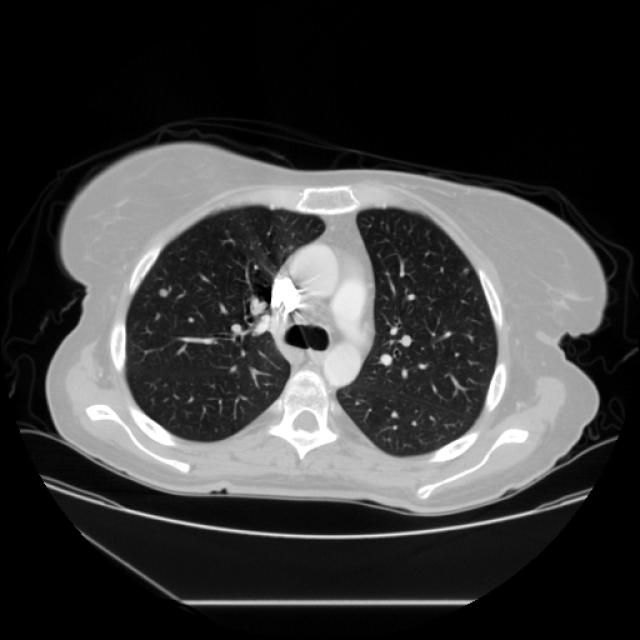nodule: (151, 280, 174, 302)
